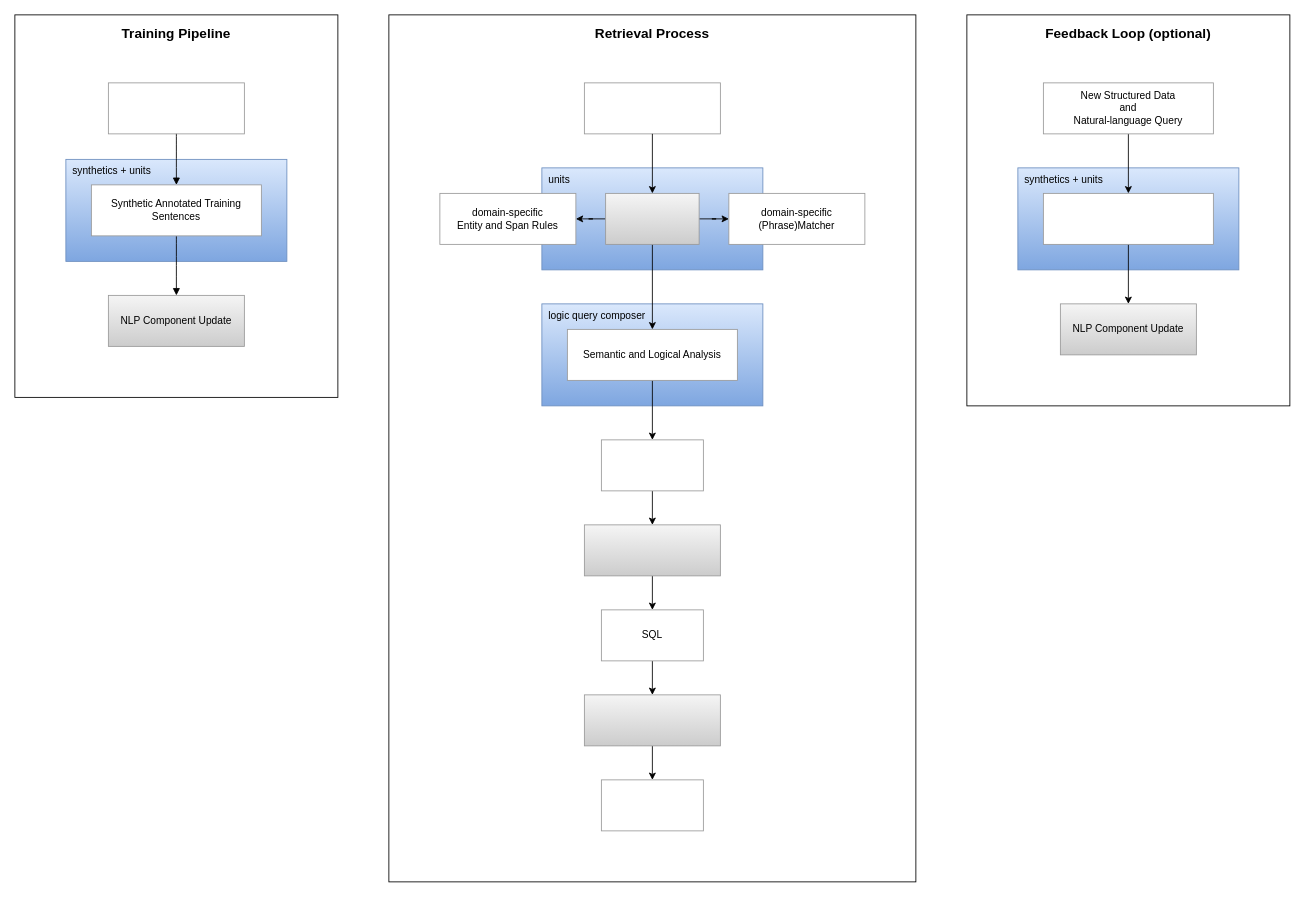
Some shapes in this 1305 by 897 pixel diagram are drawn without their labels. Here are the shapes that lost their labels. From the top down, the centre of each, then its label:
At [176,108]: "Structured Data".
At [652,108]: "Natural-language Query".
At [652,218]: "Entity Extraction".
At [1128,218]: "Update of Synthetic Annotated Training Sentences".
At [652,465]: "Logical Structure".
At [652,550]: "Manual SQL Composition".
At [652,720]: "Database Execution".
At [652,805]: "Retrieval".
